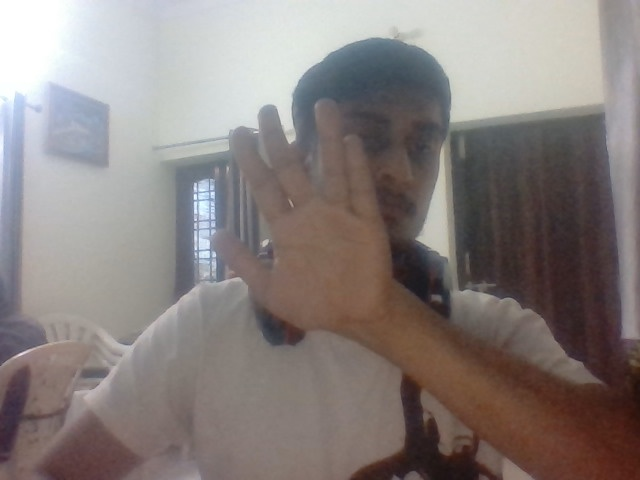LiveLong: (209, 97, 392, 328)
